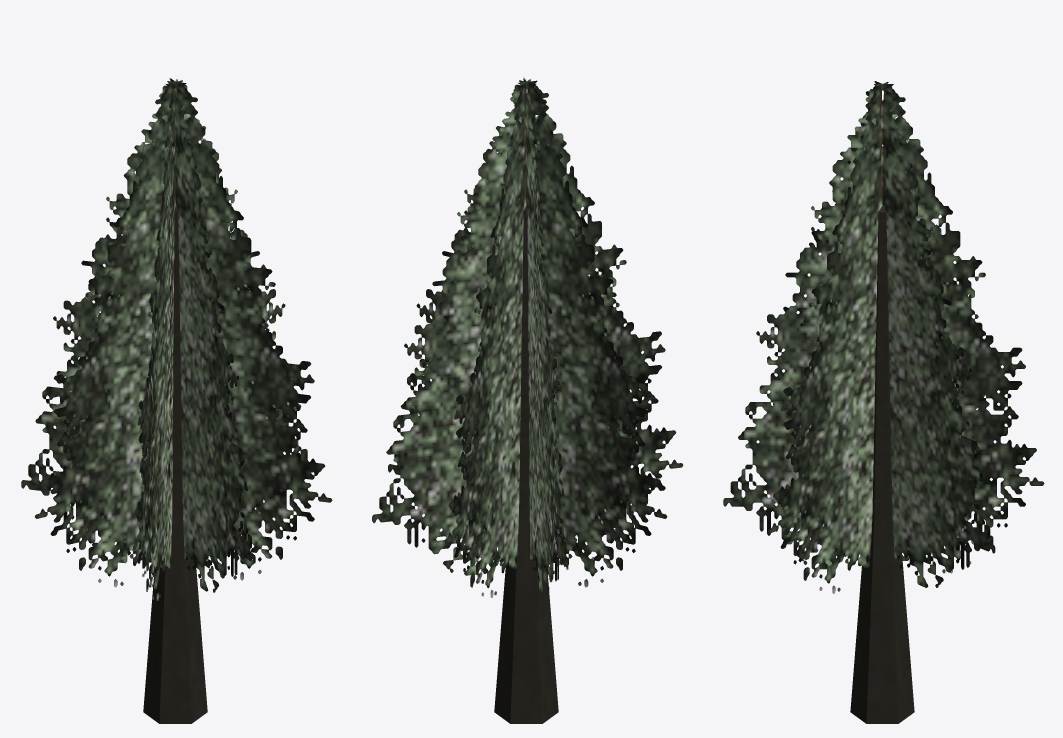
File: tree06.glb
The picture shows the model from 3 angles, left to right: view 1: azimuth 30°, elevation 25°; view 2: azimuth 150°, elevation 25°; view 3: azimuth 270°, elevation 25°; orthographic projection.
Parts seen in each view (by area): view 1: tree06; view 2: tree06; view 3: tree06.
Part boxes in pixels (left/top/right/bottom): tree06: left=21, top=78, right=332, bottom=723; tree06: left=372, top=78, right=683, bottom=723; tree06: left=723, top=81, right=1044, bottom=723.
Bounding box in the file's own units: 6 × 12.5 × 6.
Materials: 1 (1 with a texture image).
